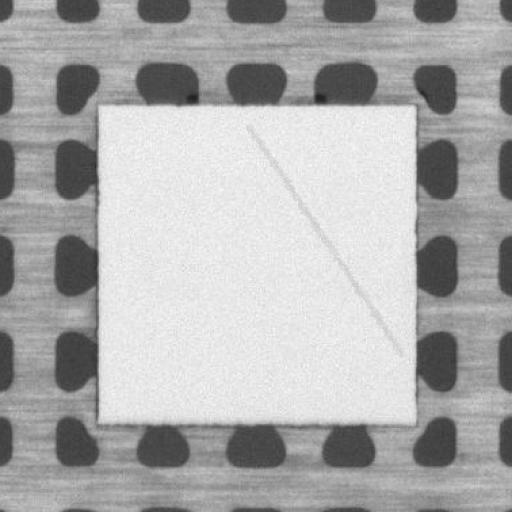DIE_CRACK: (248, 124, 401, 354)
